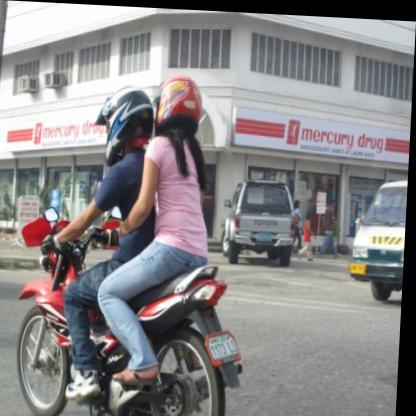With Helmet: (94, 79, 157, 157)
